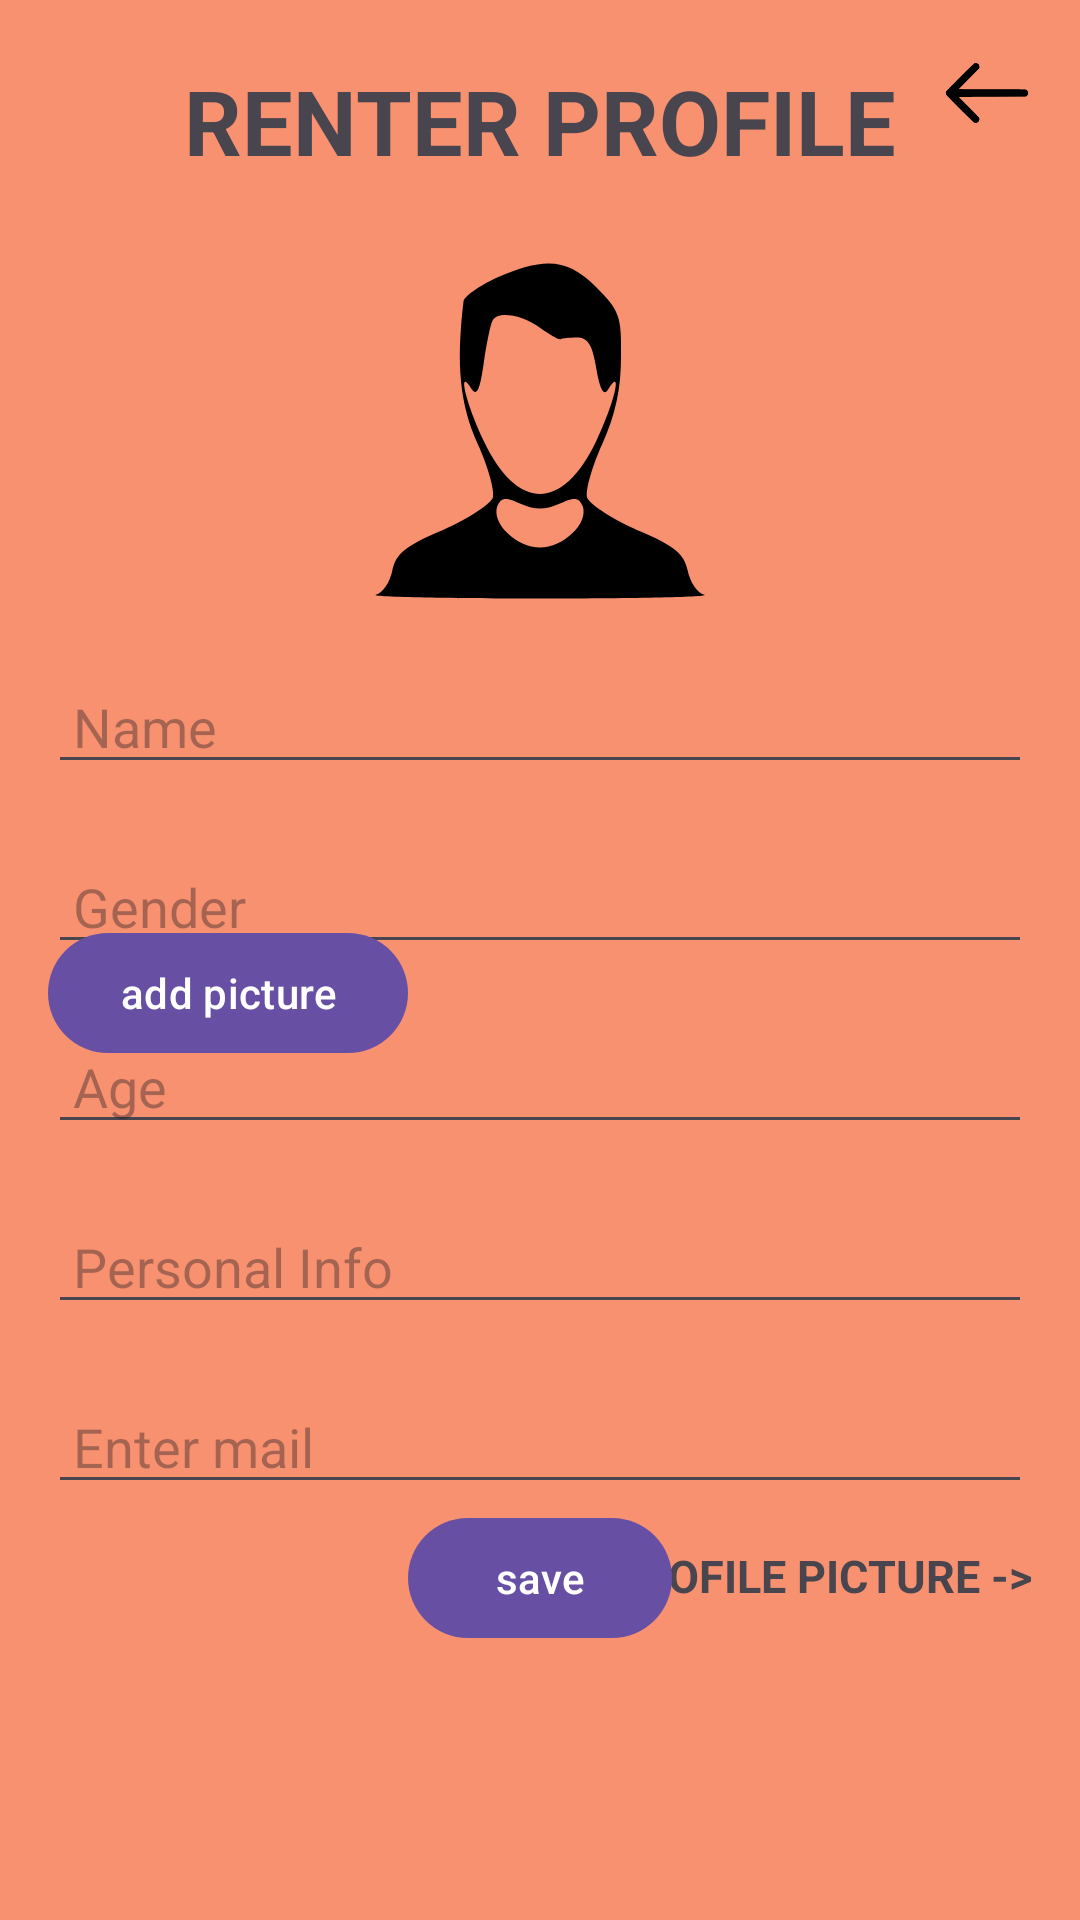

Icon click points for this 1080px×1920px phone screenshot, format (x=x, y=y):
back: (x=986, y=93)
person: (x=540, y=431)
